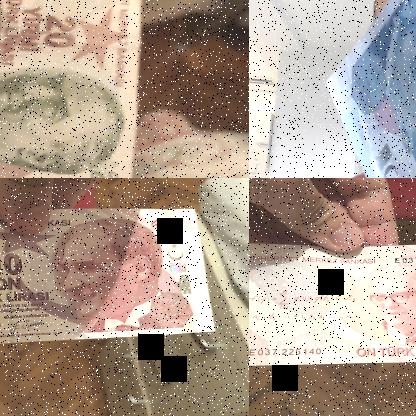5 TL: (0, 0, 159, 177)
